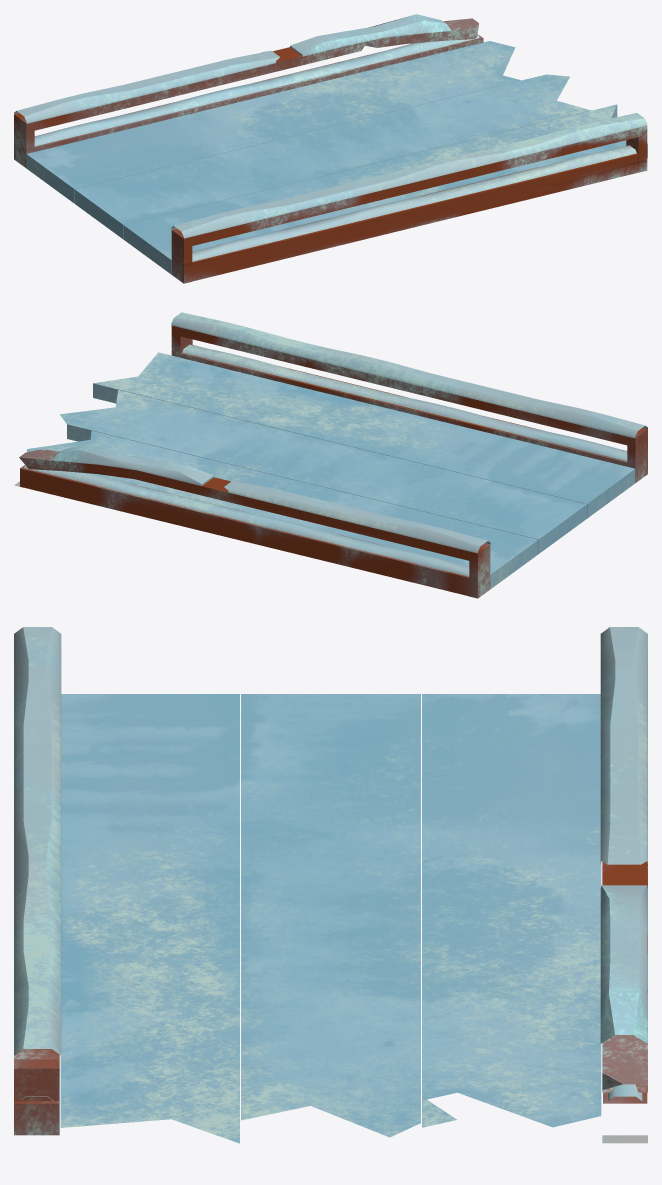
File: platform_2.fbx
3 renders of one model, top to bottom at view 1: azimuth 30°, elevation 25°; view 2: azimuth 150°, elevation 25°; view 3: azimuth 270°, elevation 25°, orthographic. The views are drawn at different scales.
Visible parts, largest first — view 1: Platform2; view 2: Platform2; view 3: Platform2.
Part boxes in pixels (x1,y1,x2,y2): Platform2: (14,14,647,283); Platform2: (14,312,647,598); Platform2: (14,627,647,1143).
Size of the model in its own units: 1066 by 109 by 635.
